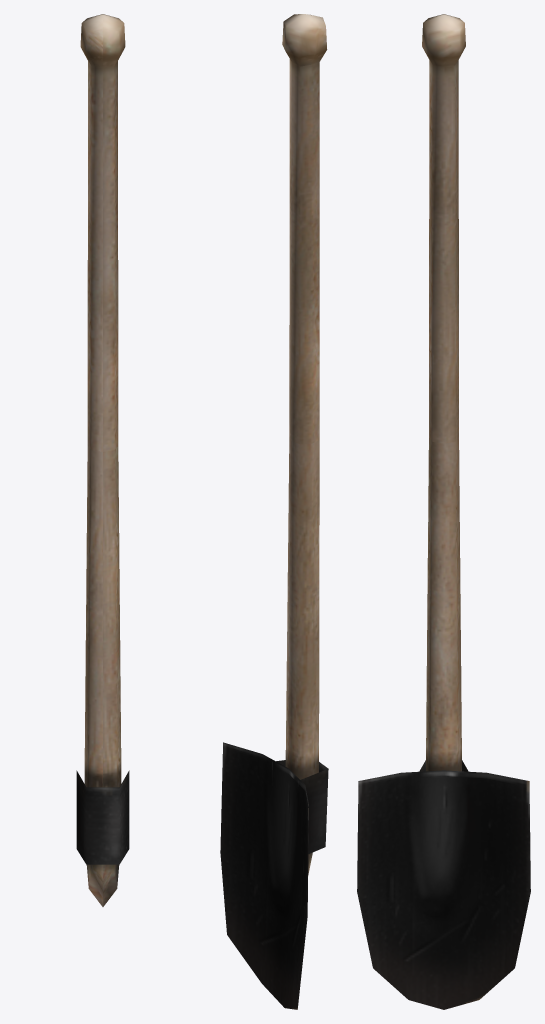
File: bunker_shovel.glb
3 renders of one model, left to right at view 1: azimuth 90°, elevation 25°; view 2: azimuth 210°, elevation 25°; view 3: azimuth 270°, elevation 25°, orthographic.
Parts seen in each view (by area): view 1: bunker_shovel; view 2: bunker_shovel; view 3: bunker_shovel.
Part boxes in pixels (bbox=[...]): bunker_shovel: bbox=[76, 14, 129, 906]; bunker_shovel: bbox=[220, 14, 328, 1009]; bunker_shovel: bbox=[357, 14, 530, 1009].
Size of the model in its own units: 0.0875 by 1.35 by 0.2157.
1 material, 1 textured.
